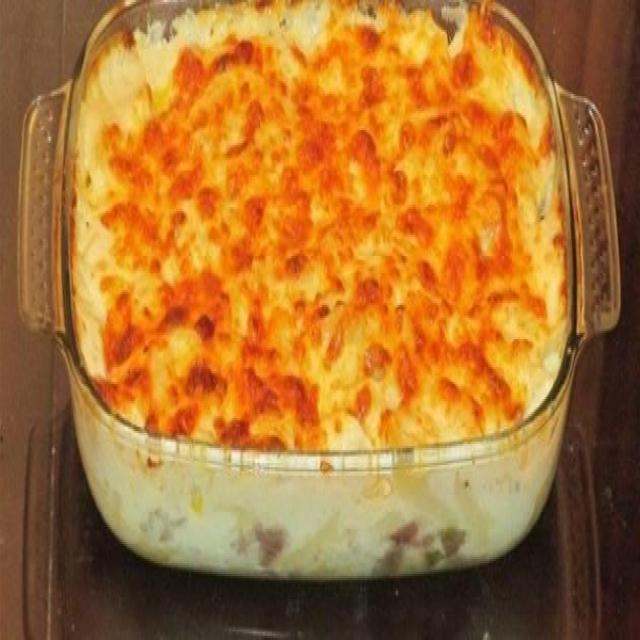Bechamel: (4, 3, 628, 592)
